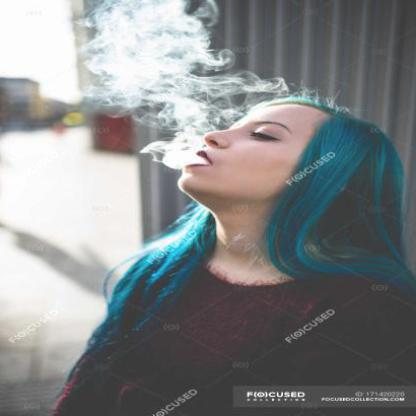person: (159, 100, 416, 415)
smoke: (77, 0, 227, 106), (144, 99, 214, 168), (208, 72, 291, 99)
